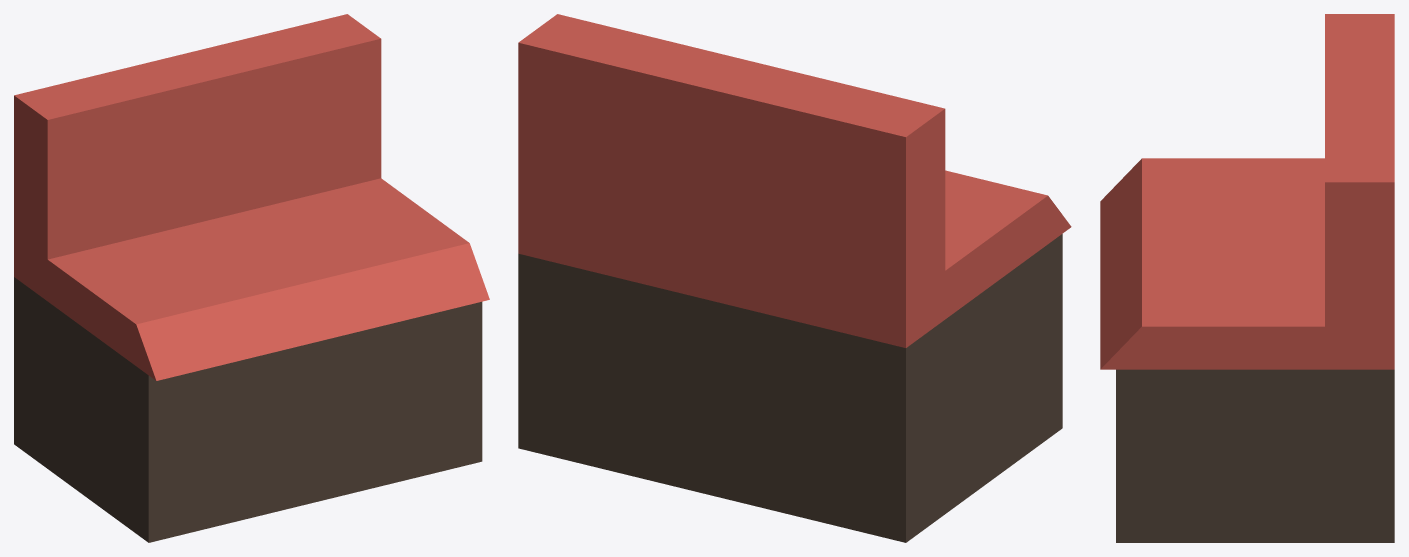
Rendered from Booth Seat.fbx.
The picture shows the model from 3 angles, left to right: view 1: azimuth 30°, elevation 25°; view 2: azimuth 150°, elevation 25°; view 3: azimuth 270°, elevation 25°; orthographic projection. The views are drawn at different scales.
Parts seen in each view (by area): view 1: Booth Seat; view 2: Booth Seat; view 3: Booth Seat.
Boxes of the visible parts, bbox=[...] form: Booth Seat: bbox=[14, 14, 489, 542]; Booth Seat: bbox=[518, 14, 1071, 542]; Booth Seat: bbox=[1100, 14, 1394, 542].
Size of the model in its own units: 750 by 750 by 555.
